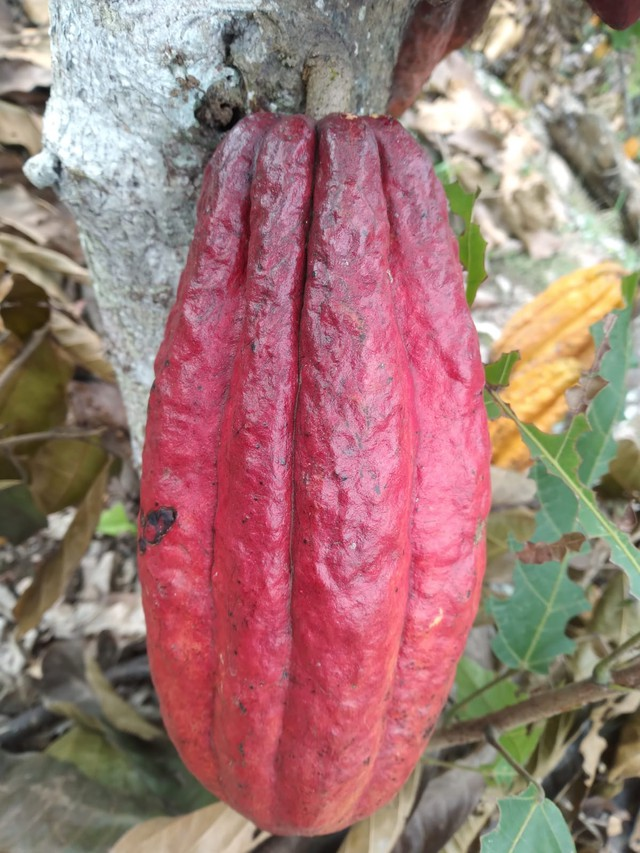Health: (134, 99, 499, 836), (115, 461, 136, 473)
